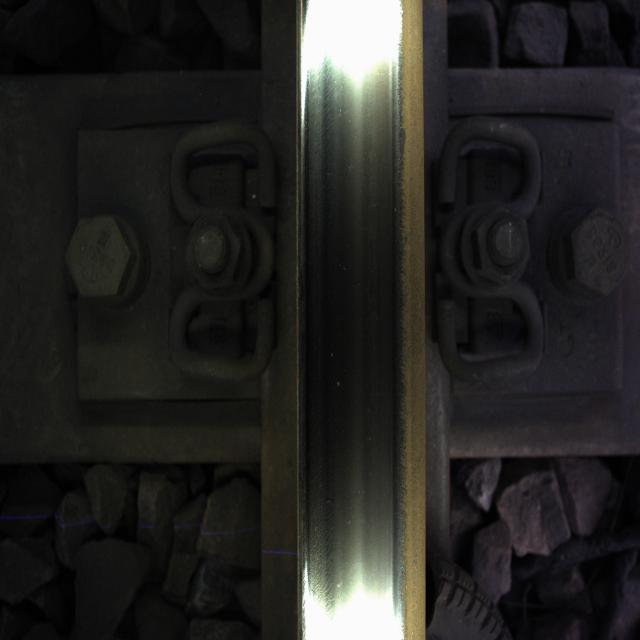break: (310, 39, 395, 581)
